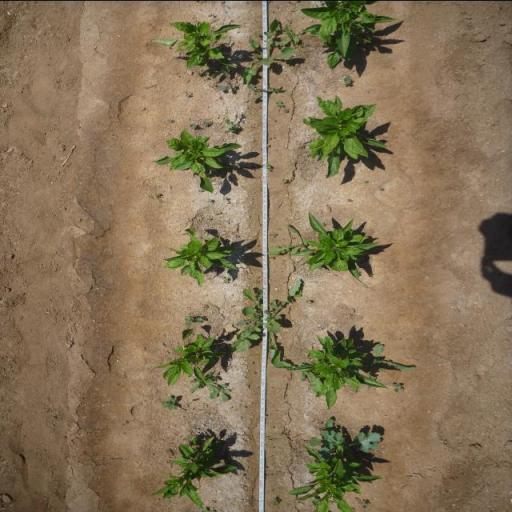plant: (302, 92, 392, 184), (294, 330, 390, 411), (300, 0, 398, 72), (151, 432, 239, 509), (285, 446, 384, 512), (149, 127, 243, 192), (298, 212, 379, 281), (162, 226, 242, 286), (152, 326, 226, 386), (150, 20, 243, 67)
weed: (228, 277, 305, 362), (240, 16, 299, 85), (308, 417, 384, 458), (363, 343, 418, 380), (267, 222, 305, 256), (247, 85, 285, 101), (188, 371, 216, 392), (208, 381, 231, 403), (218, 66, 236, 93), (224, 111, 242, 132), (282, 24, 300, 44), (160, 394, 178, 410), (183, 314, 207, 324), (342, 73, 354, 86), (392, 382, 404, 393), (268, 297, 280, 306), (204, 70, 217, 78), (272, 496, 280, 506), (360, 501, 370, 509), (219, 275, 229, 283), (274, 99, 284, 107), (271, 39, 281, 46), (202, 120, 213, 126), (188, 122, 198, 128), (280, 432, 290, 437), (222, 195, 229, 202), (185, 90, 192, 97), (269, 254, 277, 260), (214, 210, 222, 216), (266, 162, 272, 170), (203, 302, 210, 308), (283, 107, 290, 113), (154, 192, 161, 198), (270, 232, 277, 237), (282, 178, 288, 183), (306, 152, 309, 159), (266, 434, 271, 438), (348, 198, 353, 202), (379, 187, 384, 191), (167, 118, 172, 122), (271, 426, 274, 430), (208, 198, 211, 202), (198, 190, 203, 192), (364, 180, 368, 182)
